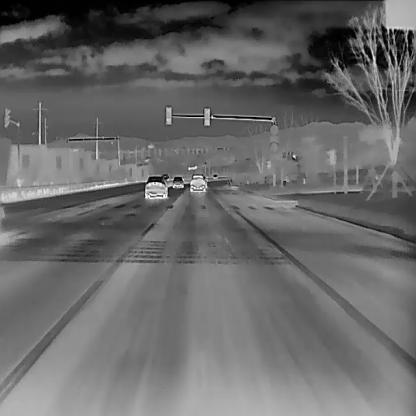car: (144, 173, 168, 197), (188, 172, 206, 191), (171, 175, 184, 187), (161, 172, 169, 182)
